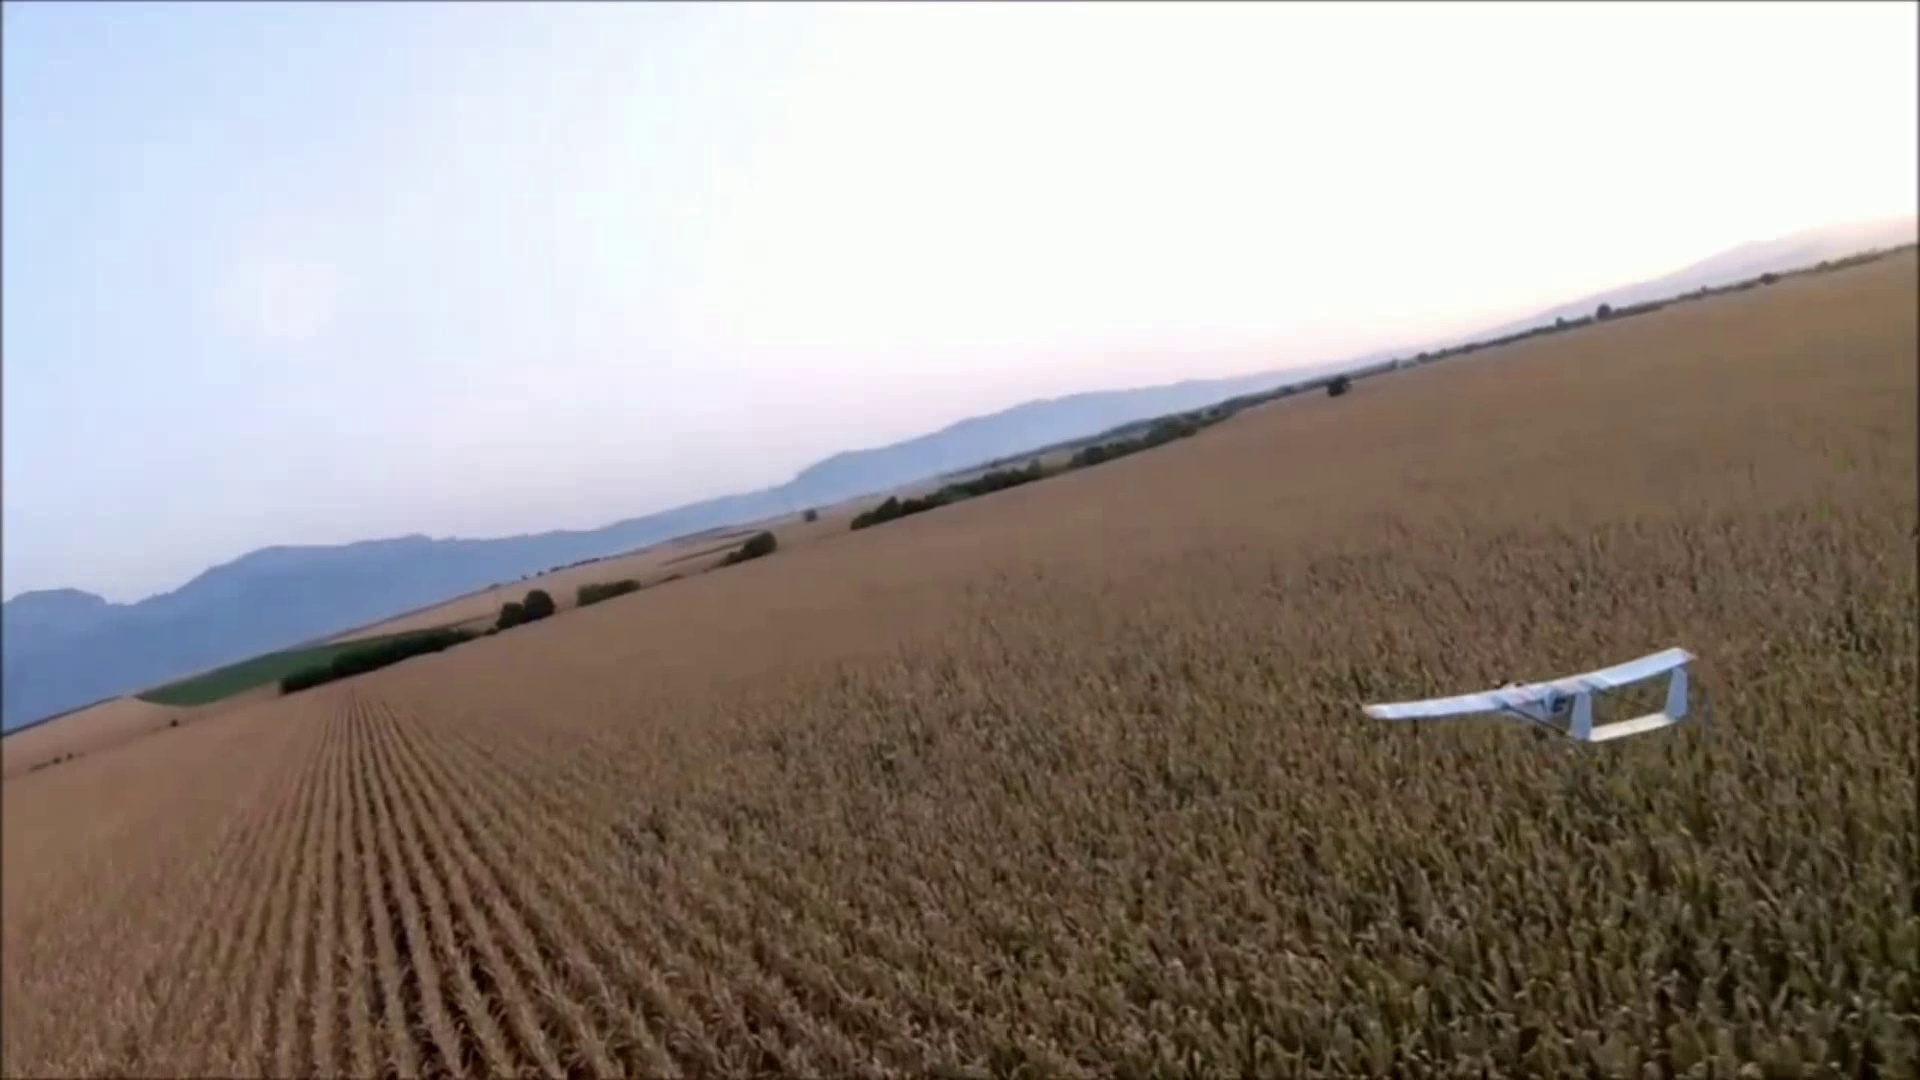airplane: (1362, 646, 1696, 746)
